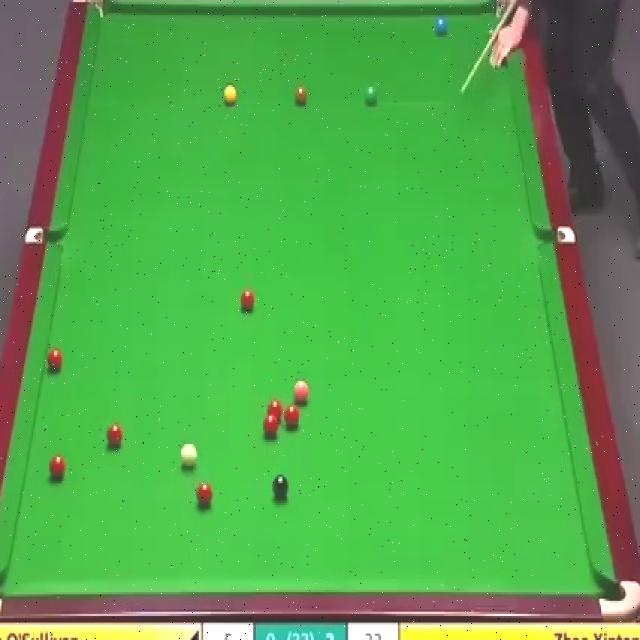black-ball: (272, 474, 290, 503)
blue-ball: (433, 11, 450, 38)
brown-ball: (294, 86, 308, 108)
green-ball: (364, 85, 378, 108)
pink-ball: (290, 379, 310, 406)
red-ball: (48, 453, 67, 483), (196, 480, 213, 509), (239, 287, 257, 314), (106, 424, 123, 452), (262, 414, 279, 440), (283, 404, 301, 428), (46, 347, 62, 374), (266, 399, 284, 422)
white-ball: (179, 443, 197, 469)
yellow-ball: (223, 84, 238, 107)
